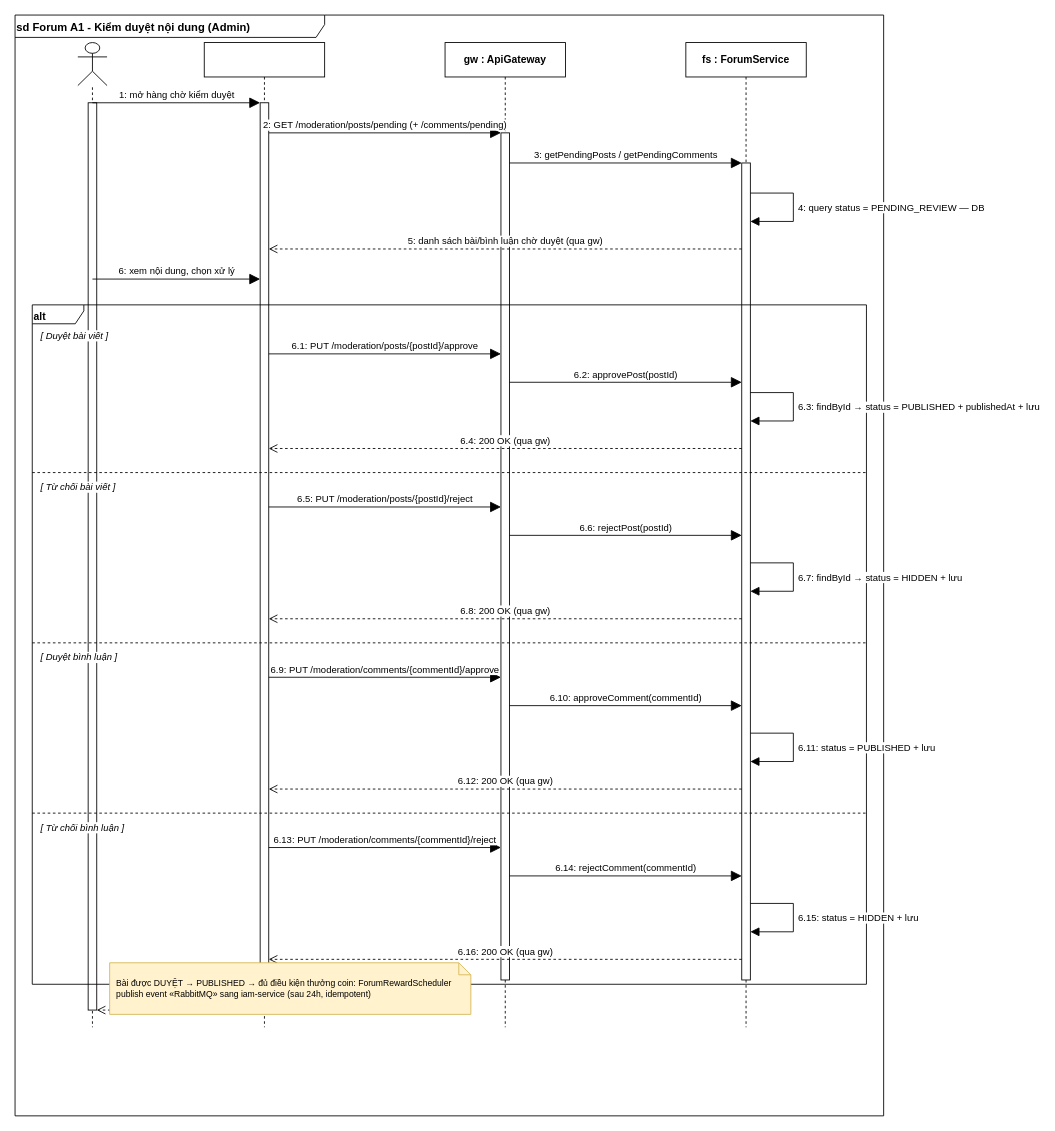
Image size: 1055x1131. Some labels were removed from this diagram. Here are the shapes that lost their labels. From the top down, the box of each, then its label:
(77, 42, 107, 86): Admin
(203, 42, 325, 1027): md : ModerationPage (Admin UI)
